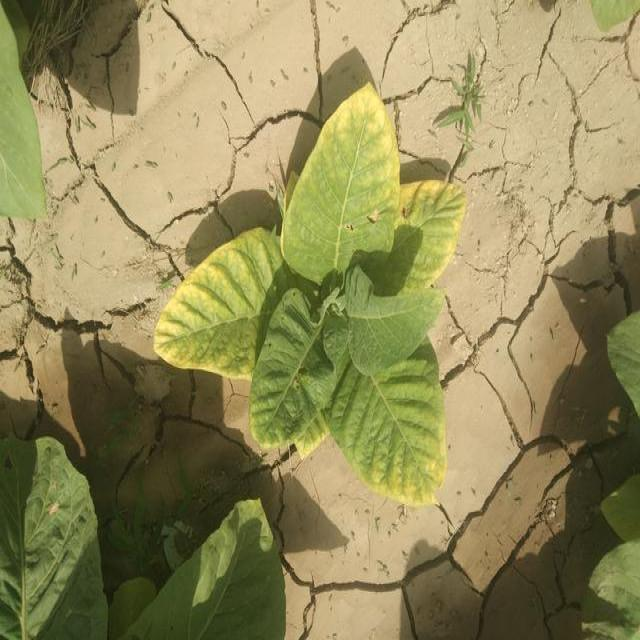crop: (160, 88, 467, 504), (0, 441, 114, 639), (164, 504, 283, 638)
